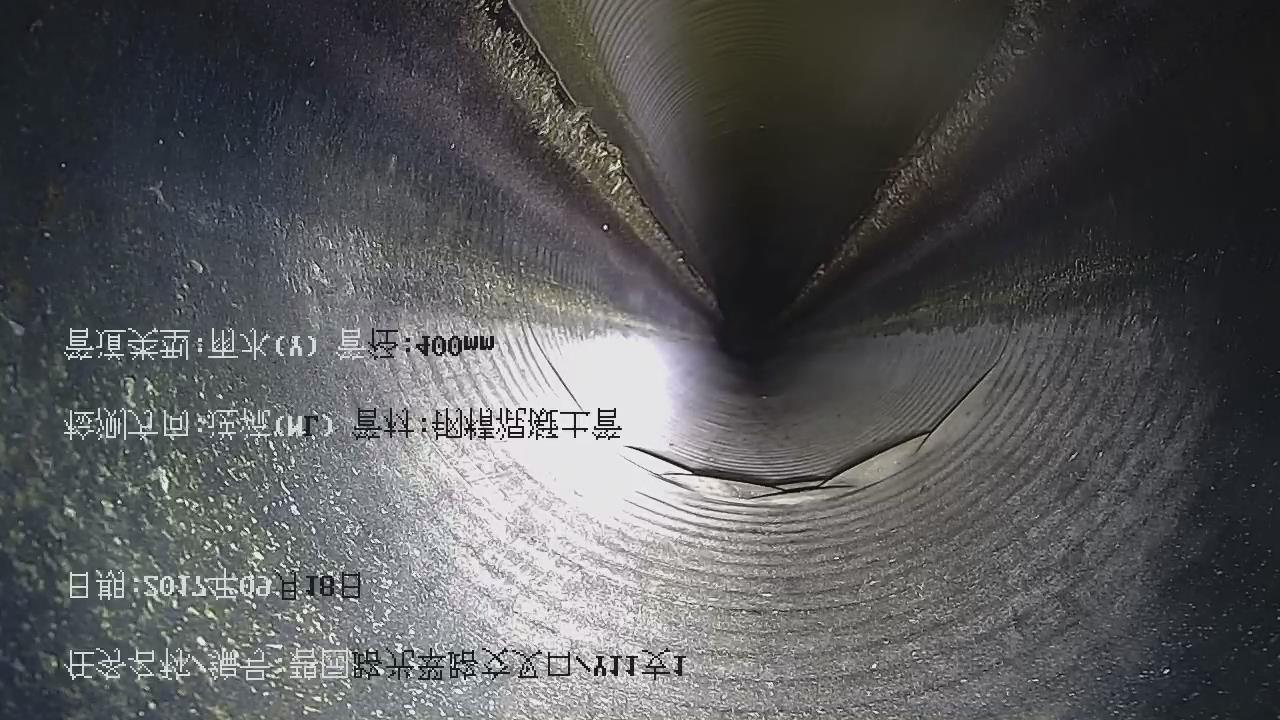JKCL: (514, 327, 1017, 519)
